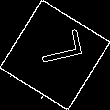L_W: (27, 34, 83, 76)
